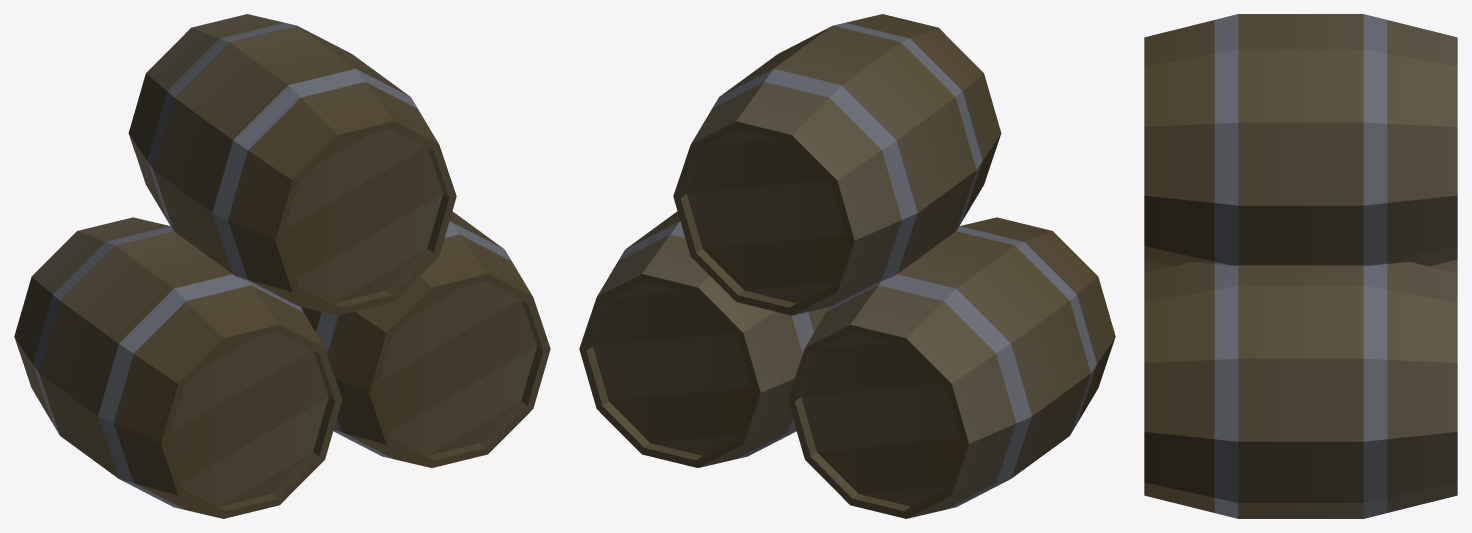
The model's file is Barrel_1B_LOD1.fbx.
The picture shows the model from 3 angles, left to right: view 1: azimuth 30°, elevation 25°; view 2: azimuth 150°, elevation 25°; view 3: azimuth 270°, elevation 25°; orthographic projection. The views are drawn at different scales.
Parts seen in each view (by area): view 1: polySurface9635; view 2: polySurface9635; view 3: polySurface9635.
Part boxes in pixels (x1,y1,x2,y2): polySurface9635: (14, 14, 550, 518); polySurface9635: (579, 14, 1115, 518); polySurface9635: (1144, 14, 1457, 518).
Size of the model in its own units: 283 by 249 by 168.
